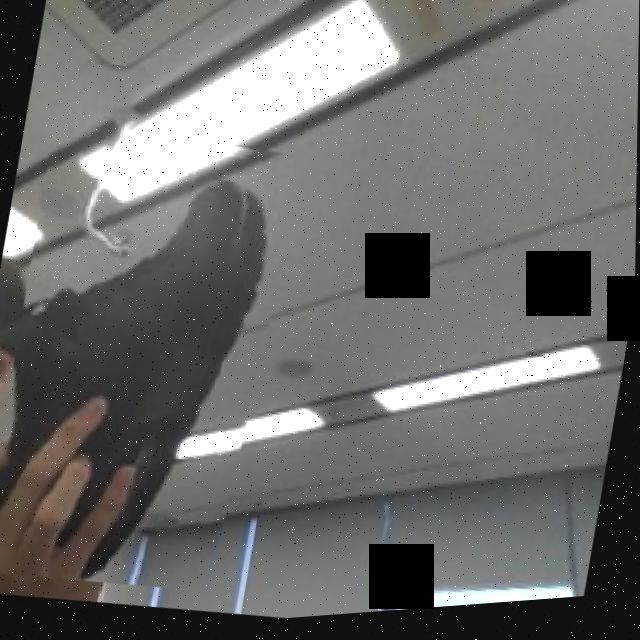shoe: (0, 109, 311, 611)
